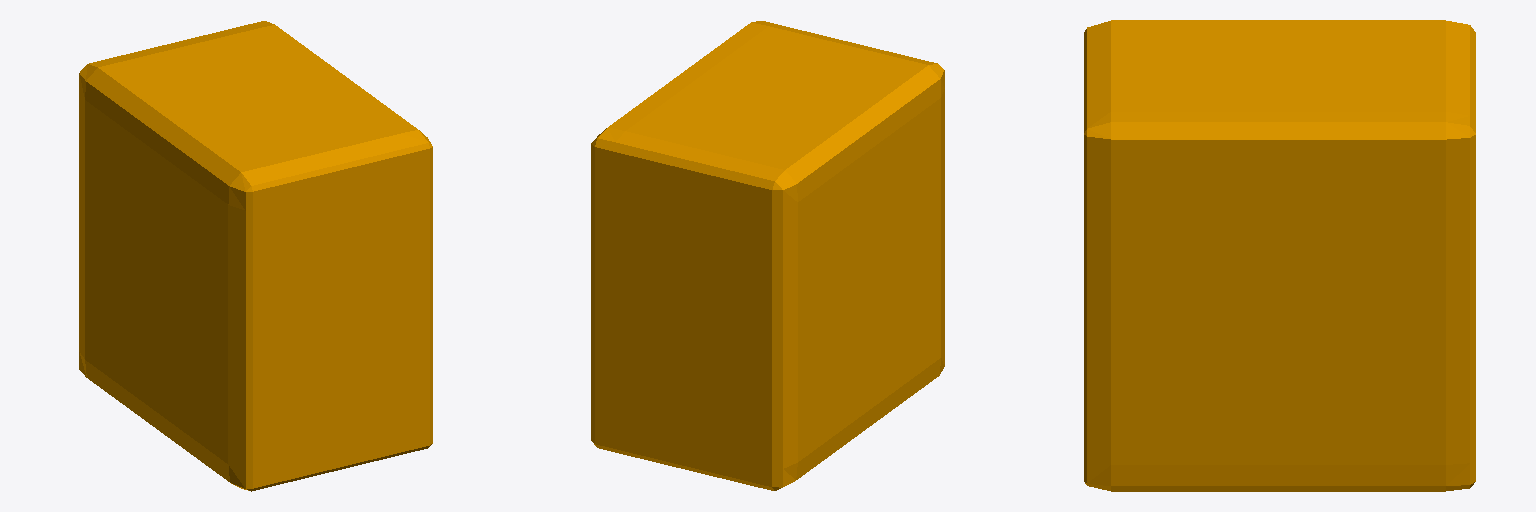
The robot description file, URDF, robot "cylinder_box_136":
<?xml version="1.0" encoding="utf-8"?>  <robot name="cylinder_box_136">   <link name="cylinder_box_136">     <visual>       <geometry>         <mesh filename="../meshes/box/box_136.stl" scale="1 1 1"/>       </geometry>     </visual>     <collision>       <geometry>         <mesh filename="../meshes/box/box_136.stl" scale="1 1 1"/>       </geometry>     </collision>     <inertial>        <origin         xyz="0 0 0"         rpy="0 0 0" />       <mass value="0.38833213262279287"/>       <origin rpy="0 0 0" xyz="0 0 0"/>       <inertia ixx="0.00044707166203717926" ixy="-6.59843666838069e-09" ixz="4.5595700536299265e-08" iyy="0.0003328568134826261" iyz="5.5397052980806745e-09" izz="0.0003154224468276802"/>     </inertial>   </link>  </robot>

--- What the picture shows (computed from the rendered views, not written in the file) ---
3 views of the same robot in one strip: view 1: azimuth 30°, elevation 25°; view 2: azimuth 150°, elevation 25°; view 3: azimuth 270°, elevation 25° (orthographic).
Model cylinder_box_136 with 1 links and 0 joints (none), rooted at cylinder_box_136, posed all joints at 0.
Links seen in each view (by area): view 1: cylinder_box_136; view 2: cylinder_box_136; view 3: cylinder_box_136.
Link boxes in pixels (x1=…): cylinder_box_136: x1=79, y1=21, x2=432, y2=491; cylinder_box_136: x1=591, y1=21, x2=944, y2=490; cylinder_box_136: x1=1084, y1=20, x2=1475, y2=491.
Bounding box of the posed robot: 0.0562 × 0.082 × 0.0852 m (x, y, z).
1 mesh visuals loaded from 1 distinct referenced files (1 binary STL).